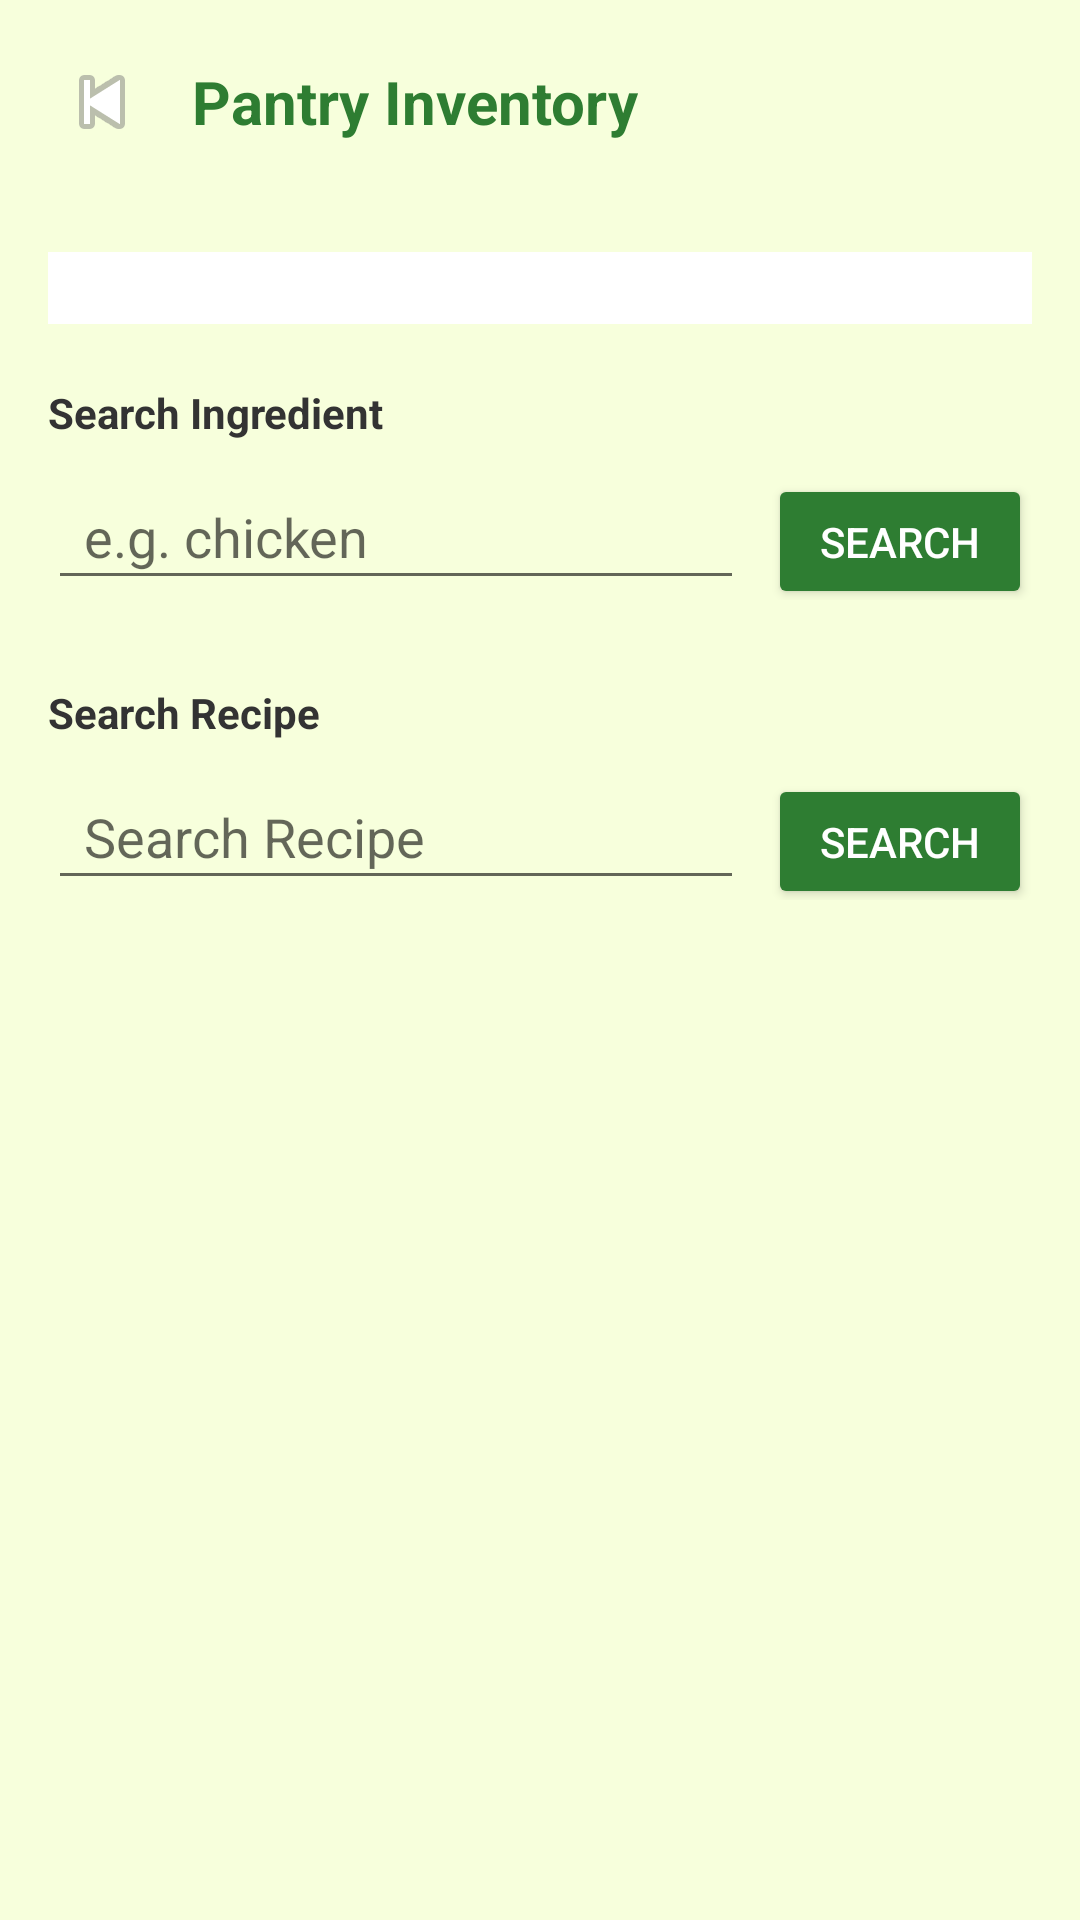

Where to tap for icons on this 1080x1920 app screen, as (x=x, y=y):
Back: (x=102, y=102)
